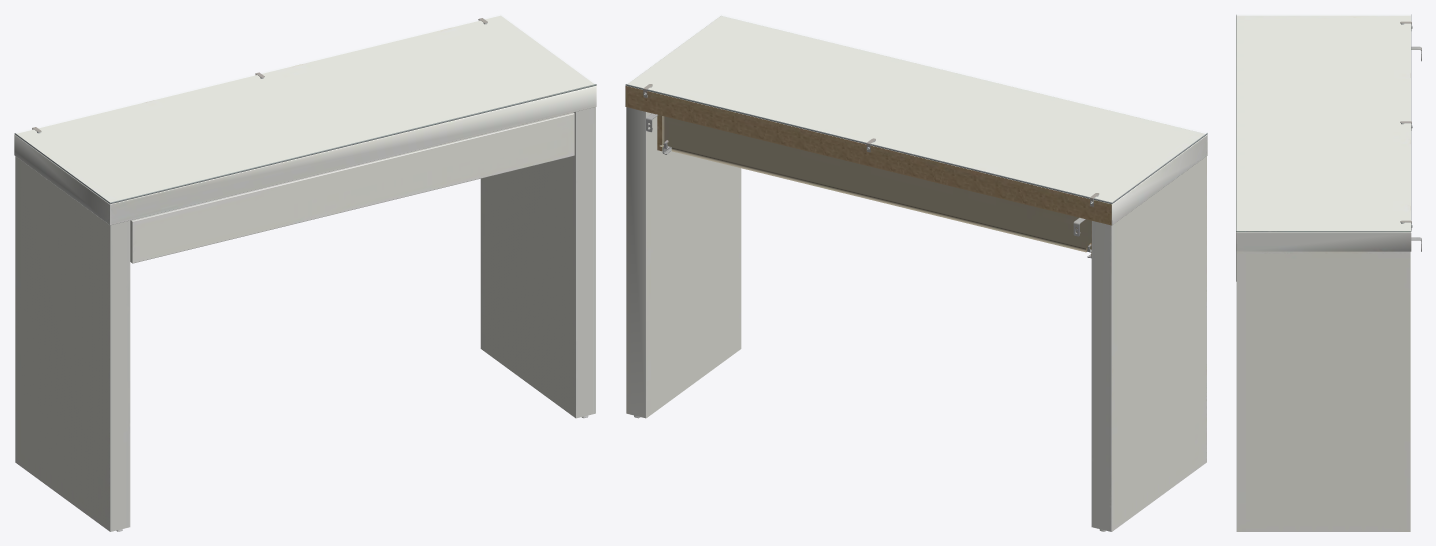
The model's file is component_001_desk.glb.
3 renders of one model, left to right at view 1: azimuth 30°, elevation 25°; view 2: azimuth 150°, elevation 25°; view 3: azimuth 270°, elevation 25°, orthographic. The views are drawn at different scales.
Visible parts, largest first — view 1: 001_desk_000_Mesh_0; view 2: 001_desk_000_Mesh_0; view 3: 001_desk_000_Mesh_0.
Boxes of the visible parts, x1,y1,x2,y2 form: 001_desk_000_Mesh_0: (14, 15, 596, 531); 001_desk_000_Mesh_0: (625, 15, 1207, 531); 001_desk_000_Mesh_0: (1236, 14, 1421, 531).
Bounding box in the file's own units: 1.2 × 0.7838 × 0.4349.
Materials: 2 (1 with a texture image).
